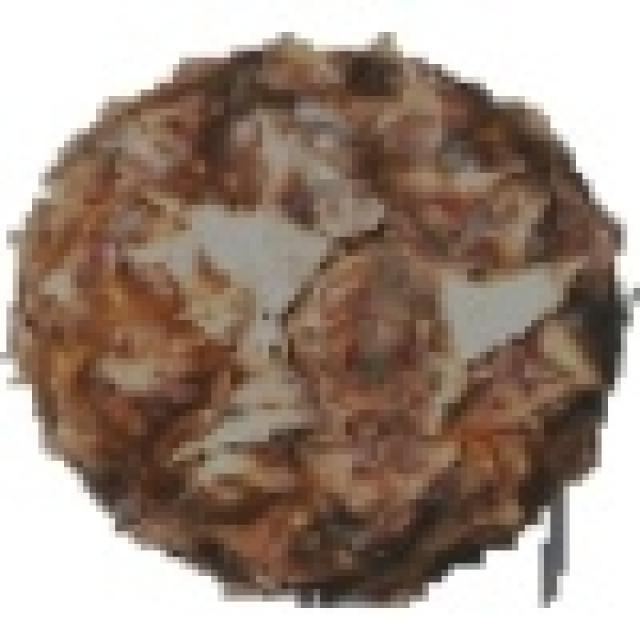pineapple: (6, 32, 608, 589)
